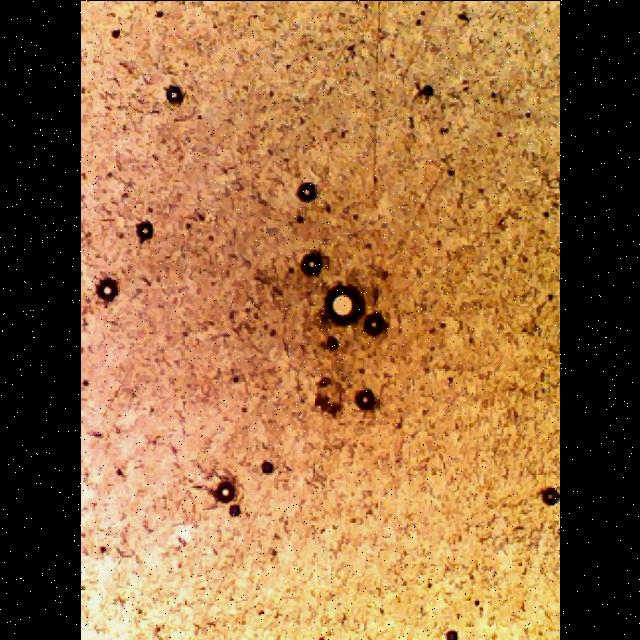microbeads: (326, 280, 366, 332)
